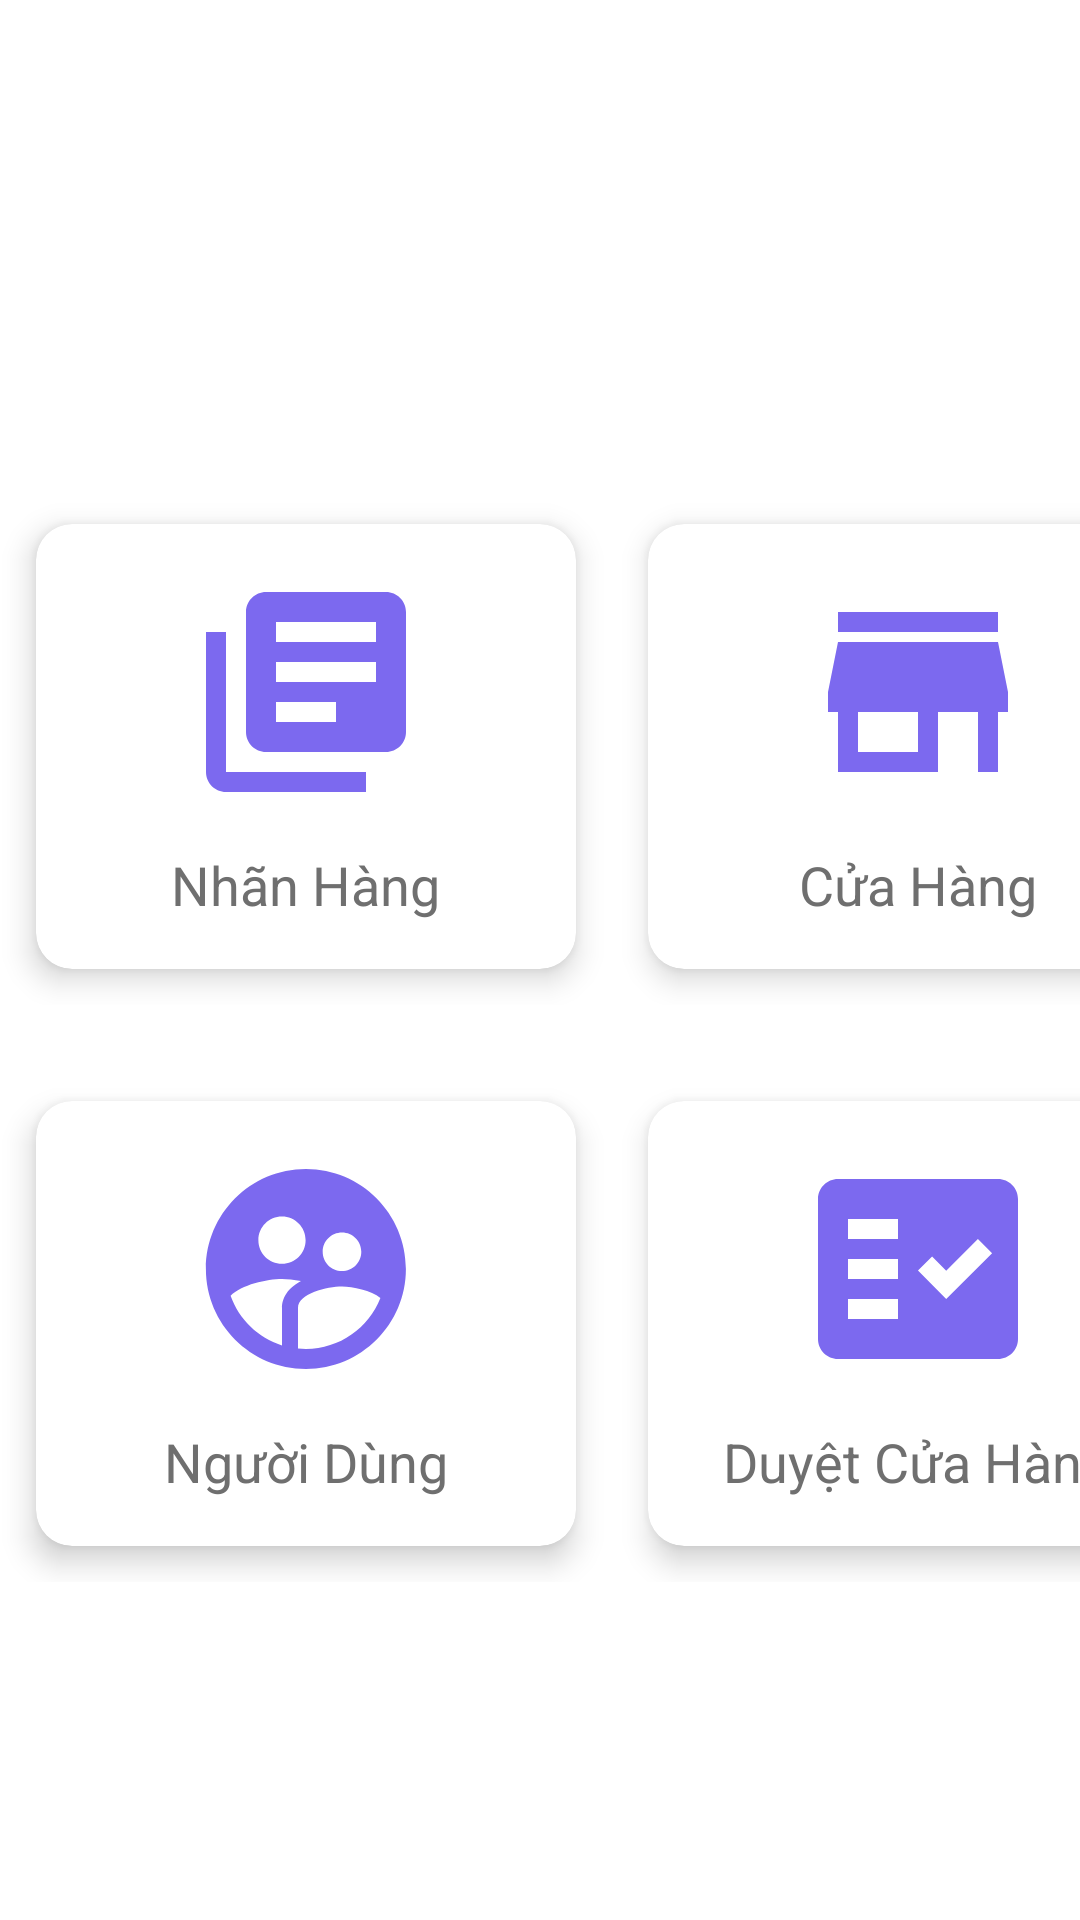

Point at icon controls on the screen. Image size 1080 x 1920, points as [x,y].
fact check: [918,1269]
library books: [306,692]
store: [918,692]
supervised user circle: [305,1269]
